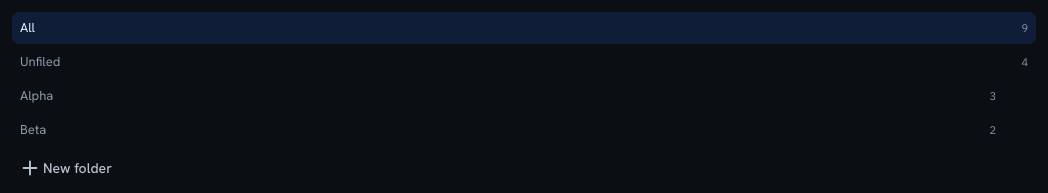
FolderList › rename: Escape cancels without commit and exits edit mode
Double-click the text "Alpha": (37, 96) x1=20 y1=87 x2=53 y2=104
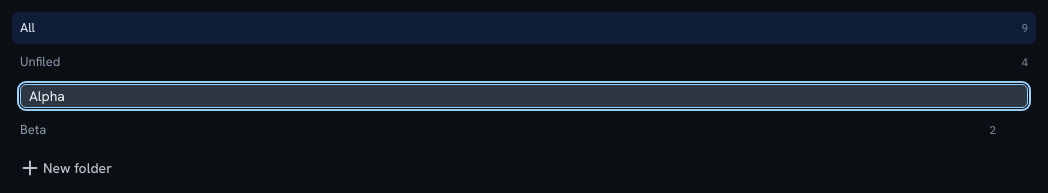
Replace the text in the field with test id "folder-rename-folder-a" with "ShouldNotCommit": (524, 96) x1=20 y1=84 x2=1028 y2=108
Then press Escape
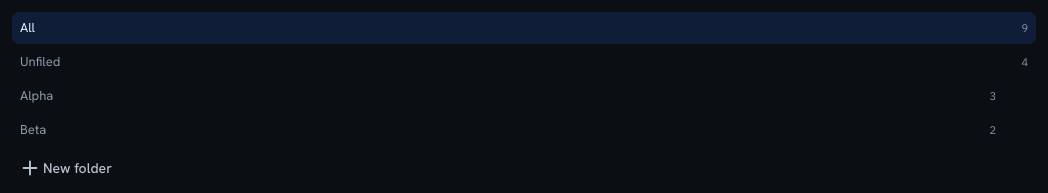
Expected: the field with test id "folder-rename-folder-a" is gone
